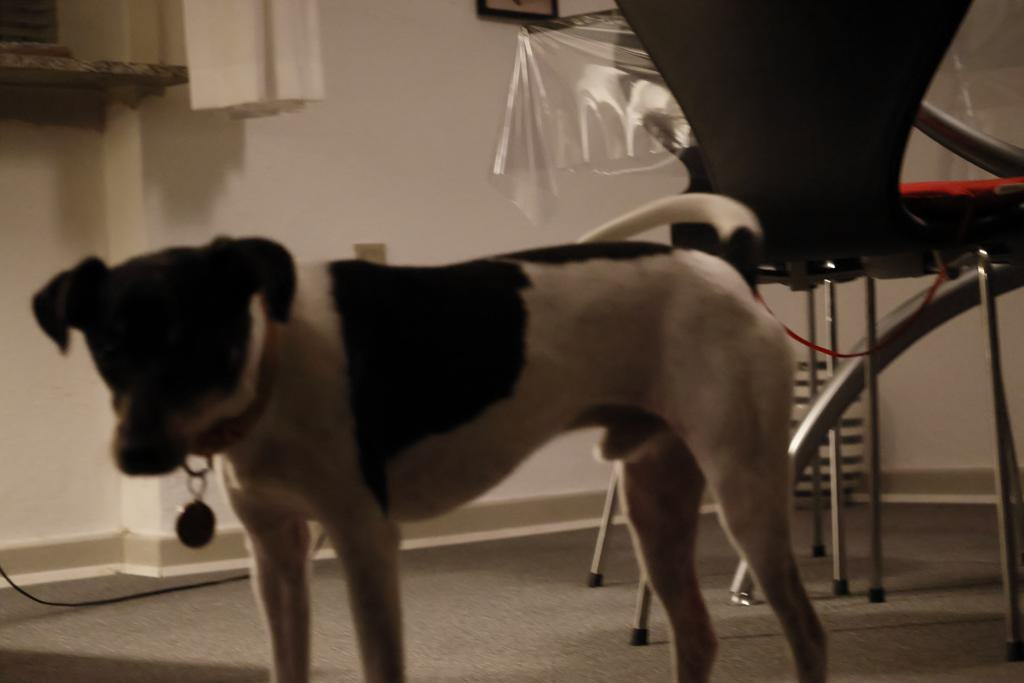Dog: (21, 186, 836, 683)
